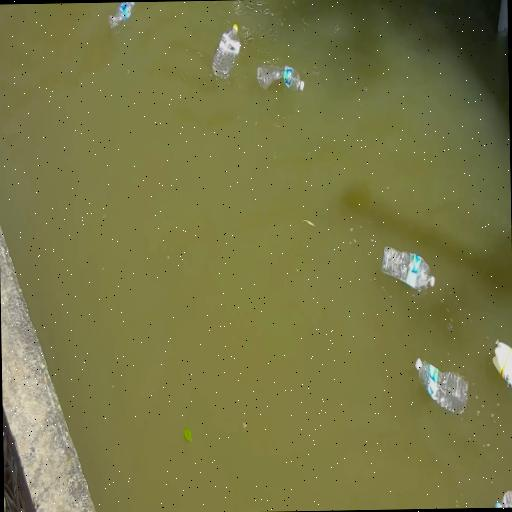plastic: (415, 358, 467, 414), (380, 246, 434, 290), (212, 24, 239, 79), (257, 66, 303, 90), (492, 339, 512, 394), (108, 2, 135, 28), (496, 490, 512, 508)
